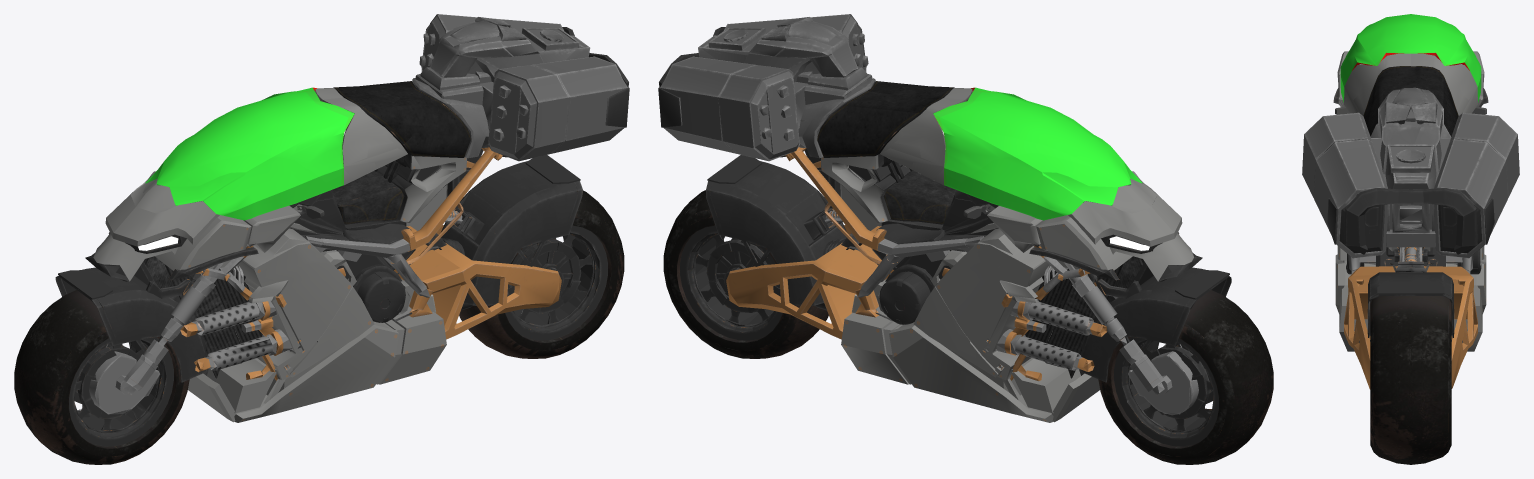
Rendered from Motorbike_ LOD_2.fbx.
The picture shows the model from 3 angles, left to right: view 1: azimuth 30°, elevation 25°; view 2: azimuth 150°, elevation 25°; view 3: azimuth 270°, elevation 25°; orthographic projection.
Visible parts, largest first — view 1: SM_ Bike_LOD_2_Body, SM_ Bike_LOD_2_FW, SM_ Bike_LOD_2_BW; view 2: SM_ Bike_LOD_2_Body, SM_ Bike_LOD_2_FW, SM_ Bike_LOD_2_BW; view 3: SM_ Bike_LOD_2_Body, SM_ Bike_LOD_2_BW.
Part boxes in pixels (<box>): SM_ Bike_LOD_2_Body: <box>55,14,629,422</box>; SM_ Bike_LOD_2_FW: <box>14,290,189,464</box>; SM_ Bike_LOD_2_BW: <box>459,190,624,358</box>; SM_ Bike_LOD_2_Body: <box>658,14,1231,422</box>; SM_ Bike_LOD_2_FW: <box>1098,290,1273,464</box>; SM_ Bike_LOD_2_BW: <box>663,190,828,358</box>; SM_ Bike_LOD_2_Body: <box>1302,14,1519,389</box>; SM_ Bike_LOD_2_BW: <box>1370,296,1451,464</box>.
Bounding box in the file's own units: 145 × 448 × 245.
Materials: 3 (2 with a texture image).
